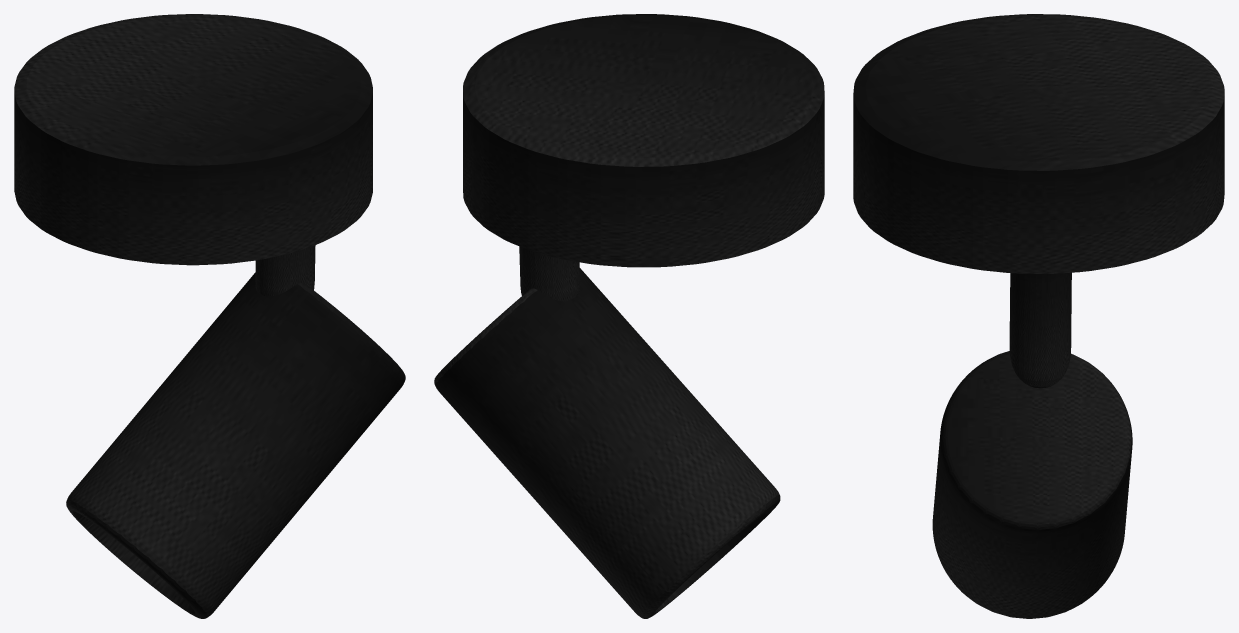
The model's file is luzinclinada.fbx.
The picture shows the model from 3 angles, left to right: view 1: azimuth 30°, elevation 25°; view 2: azimuth 150°, elevation 25°; view 3: azimuth 270°, elevation 25°; orthographic projection. The views are drawn at different scales.
Parts seen in each view (by area): view 1: Cylinder, Cylinder.002, Cylinder.001; view 2: Cylinder, Cylinder.002, Cylinder.001; view 3: Cylinder, Cylinder.002, Cylinder.001.
Part boxes in pixels (x1,y1,x2,y2): Cylinder: [14, 14, 372, 265]; Cylinder.002: [66, 272, 405, 618]; Cylinder.001: [255, 245, 315, 296]; Cylinder: [463, 14, 824, 267]; Cylinder.002: [434, 268, 780, 618]; Cylinder.001: [519, 246, 580, 301]; Cylinder: [853, 14, 1224, 273]; Cylinder.002: [932, 351, 1132, 618]; Cylinder.001: [1009, 272, 1071, 388].
Bounding box in the file's own units: 270 × 383 × 241.
Materials: 2 (1 with a texture image).
